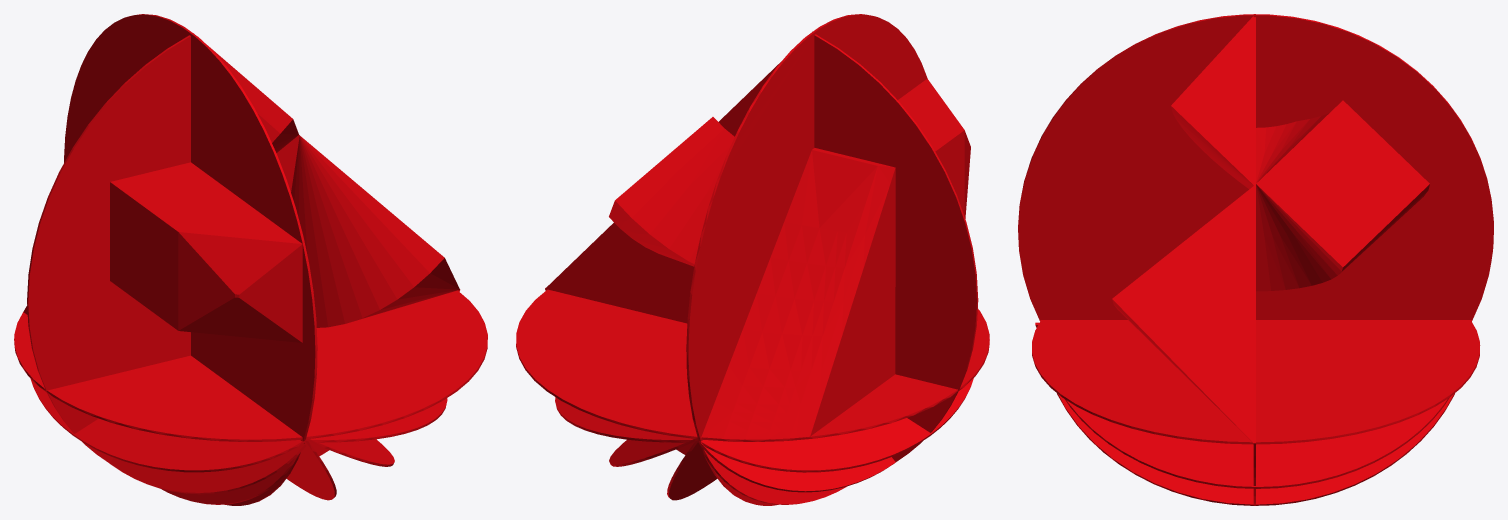
Rendered from LEO OPT.fbx.
The picture shows the model from 3 angles, left to right: view 1: azimuth 30°, elevation 25°; view 2: azimuth 150°, elevation 25°; view 3: azimuth 270°, elevation 25°; orthographic projection. The views are drawn at different scales.
Visible parts, largest first — view 1: LEO_LOD0; view 2: LEO_LOD0; view 3: LEO_LOD0.
Part boxes in pixels (bbox=[...]): LEO_LOD0: bbox=[14, 14, 487, 505]; LEO_LOD0: bbox=[516, 14, 989, 505]; LEO_LOD0: bbox=[1018, 14, 1493, 505].
Size of what is drawn, in the model's own units: 960 by 986 by 967.
